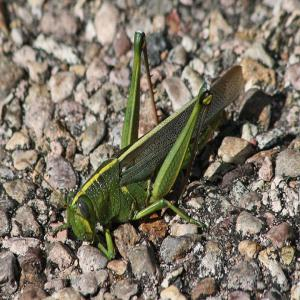locust: (63, 17, 249, 244)
